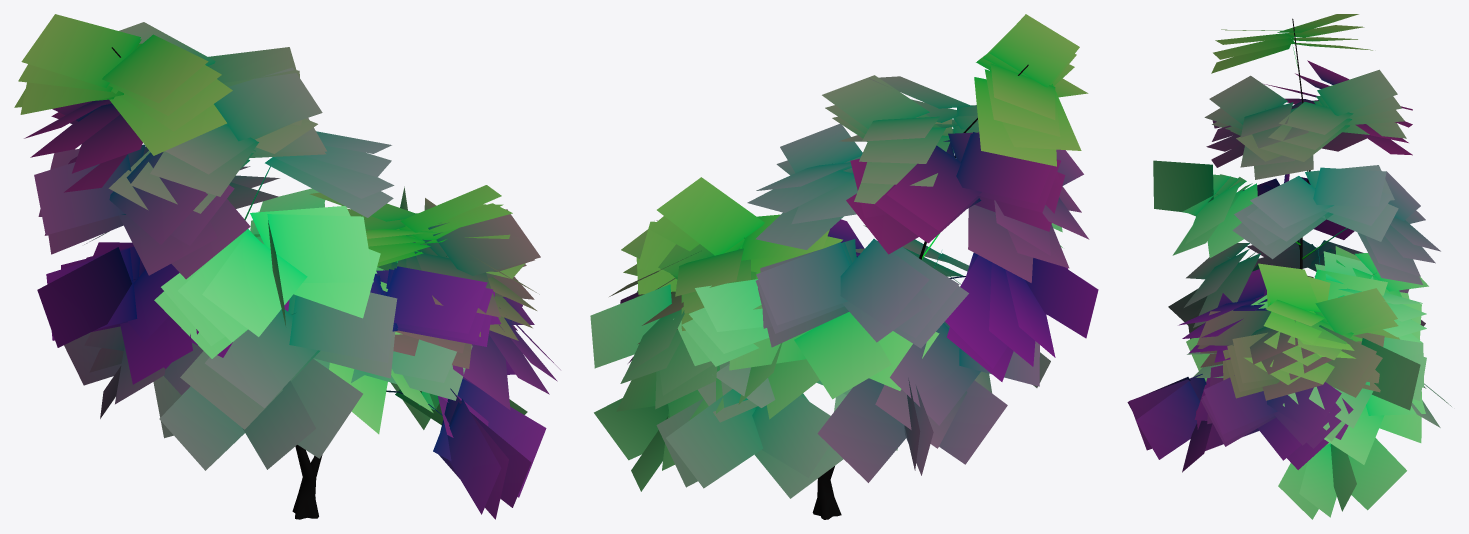
Rendered from Tree_1_10.fbx.
The picture shows the model from 3 angles, left to right: view 1: azimuth 30°, elevation 25°; view 2: azimuth 150°, elevation 25°; view 3: azimuth 270°, elevation 25°; orthographic projection. The views are drawn at different scales.
Parts seen in each view (by area): view 1: _10; view 2: _10; view 3: _10.
Part boxes in pixels (bbox=[...]): _10: bbox=[14, 14, 560, 519]; _10: bbox=[590, 14, 1098, 519]; _10: bbox=[1127, 14, 1451, 519].
Size of the model in its own units: 1745 by 1761 by 1369.
